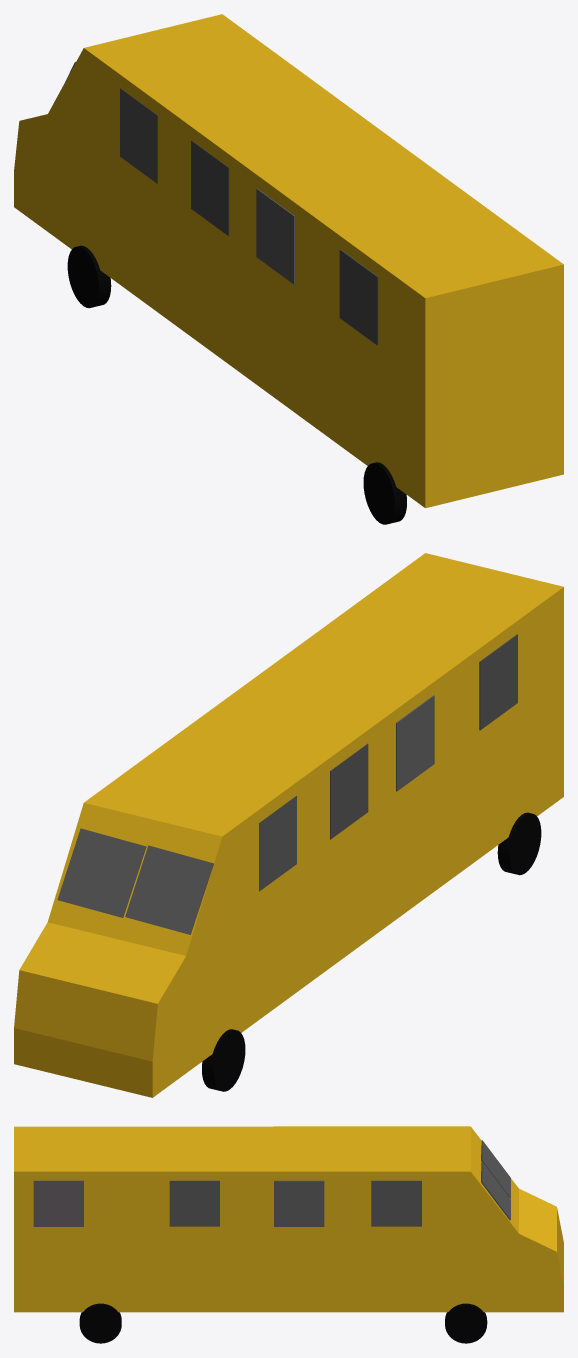
The model's file is deerbusbx.fbx.
The picture shows the model from 3 angles, top to bottom: view 1: azimuth 30°, elevation 25°; view 2: azimuth 150°, elevation 25°; view 3: azimuth 270°, elevation 25°; orthographic projection. The views are drawn at different scales.
Parts seen in each view (by area): view 1: Cube, Cube.008, Cube.007, Cube.006, Cube.005, Cylinder, Cylinder.001; view 2: Cube, Cube.009, Cube.010, Cube.007, Cube.008, Cube.006, Cube.005, Cylinder.001, Cylinder; view 3: Cube, Cube.004, Cube.001, Cube.002, Cube.003, Cylinder.003, Cylinder.002, Cube.009, Cube.010.
Boxes of the visible parts, box(x1,y1,x2,y2) form: Cube: box(14, 14, 563, 508); Cube.008: box(339, 249, 378, 345); Cube.007: box(256, 188, 294, 284); Cube.006: box(191, 140, 229, 236); Cube.005: box(120, 88, 157, 183); Cylinder: box(363, 462, 406, 524); Cylinder.001: box(67, 245, 111, 308); Cube: box(14, 553, 563, 1097); Cube.009: box(57, 828, 146, 917); Cube.010: box(125, 845, 213, 934); Cube.007: box(396, 695, 434, 791); Cube.008: box(479, 634, 517, 730); Cube.006: box(330, 743, 368, 839); Cube.005: box(259, 795, 296, 891); Cylinder.001: box(202, 1029, 245, 1091); Cylinder: box(497, 812, 541, 875); Cube: box(14, 1126, 563, 1312); Cube.004: box(371, 1180, 421, 1226); Cube.001: box(33, 1180, 83, 1226); Cube.002: box(169, 1180, 219, 1226); Cube.003: box(274, 1180, 324, 1226); Cylinder.003: box(79, 1303, 121, 1343); Cylinder.002: box(445, 1303, 487, 1343); Cube.009: box(481, 1162, 510, 1220); Cube.010: box(481, 1140, 510, 1198).
Size of the model in its own units: 542 by 890 by 2605.
